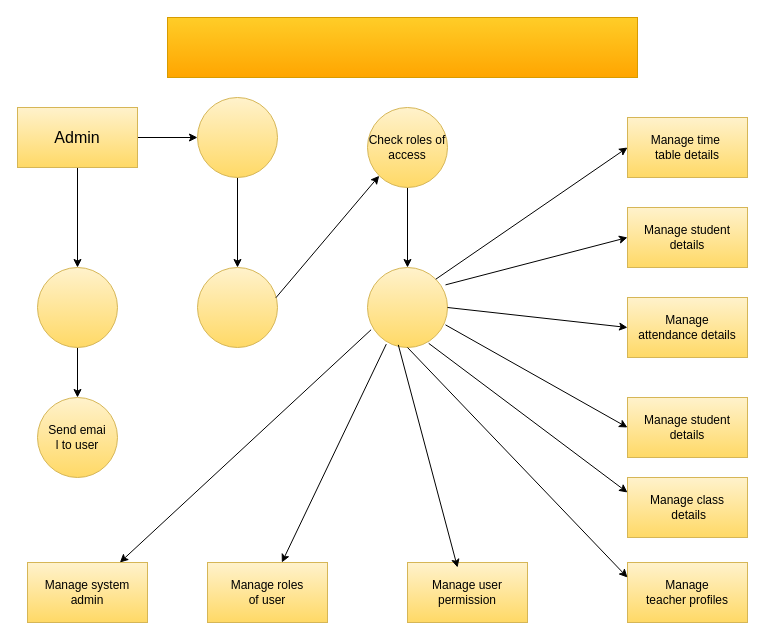
The diagram is 765 pixels wide and 640 high, and some of its shapes have lost their labels. The shapes that lost their labels are listed below. From the top down, each one's centre as x and y in pixels, then its label:
At point 402,47: "Student information system".
At point 237,137: "Login to system".
At point 77,307: "Forget password".
At point 237,307: "Check credentials".
At point 407,307: "Manage modules".
